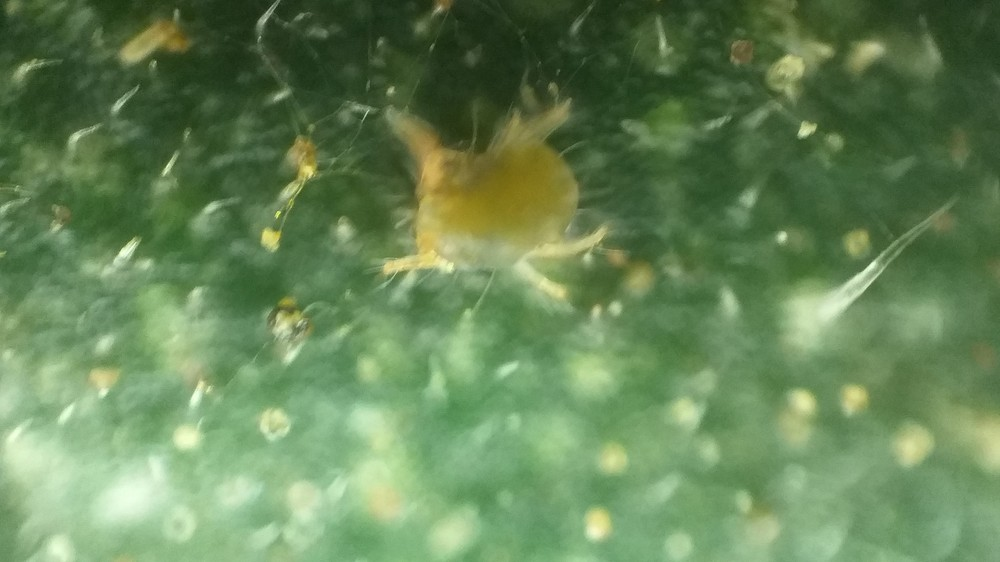Aracnido Rojo: (347, 85, 635, 319)
